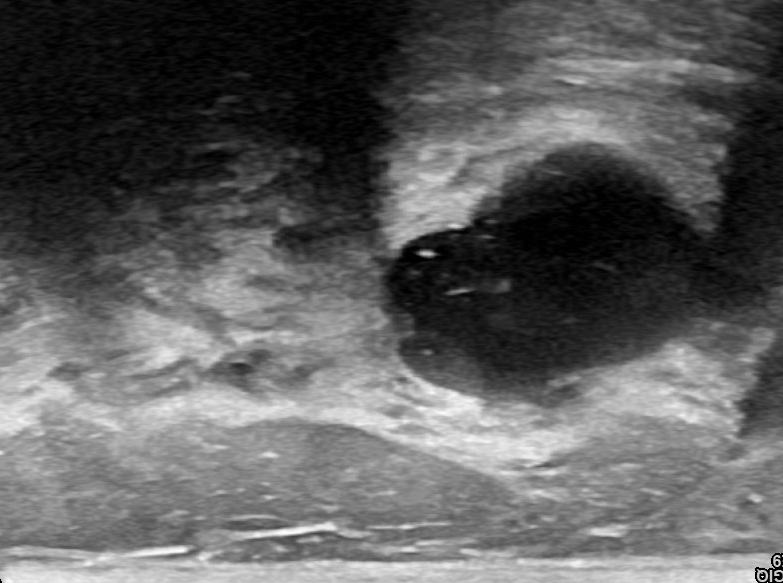Malignant: (380, 139, 697, 377)
